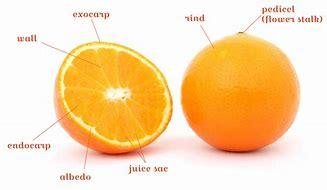orange: (50, 29, 179, 159), (181, 26, 302, 155)
